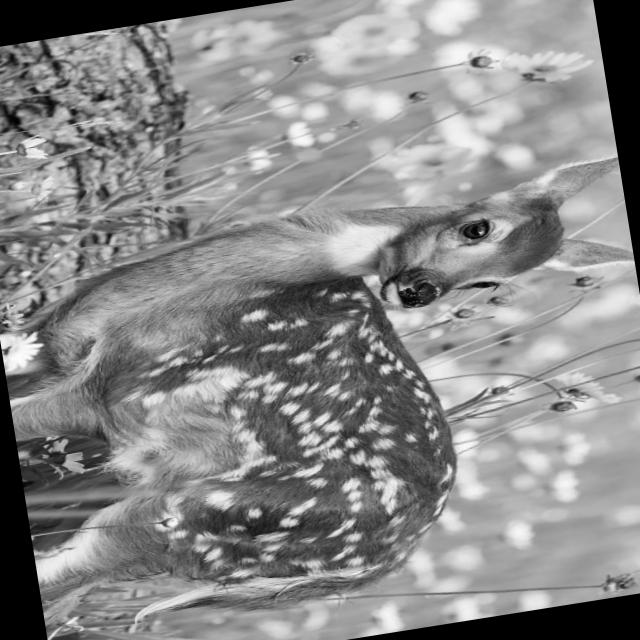Animals: (207, 134, 640, 362)
